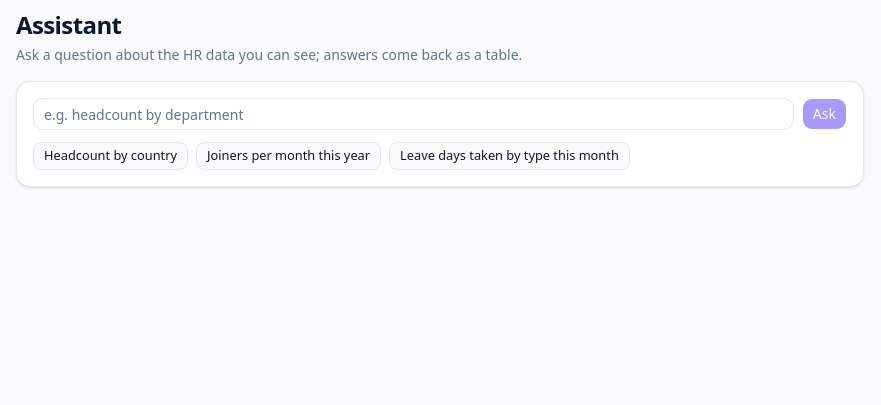
Test case: AssistantPage › does not show the model explanation
Type "headcount by country" into the field named "Question".
click(413, 114); type("headcount by country")  # box [33,98,794,130]
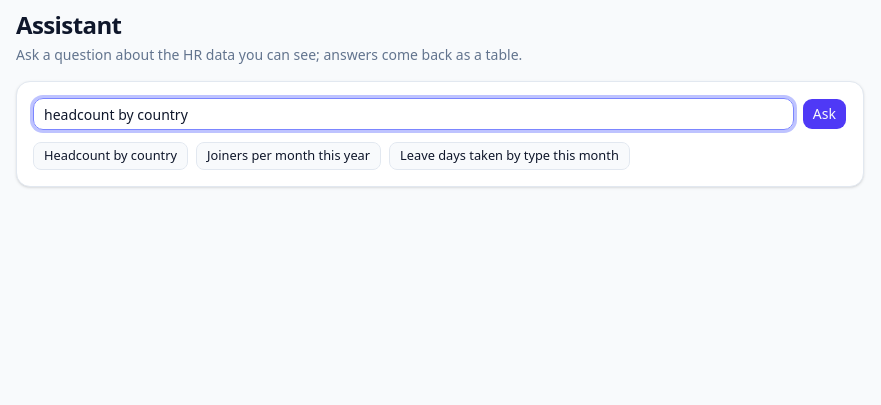
Click the button "Ask".
click(824, 114)  # box [802,98,847,130]
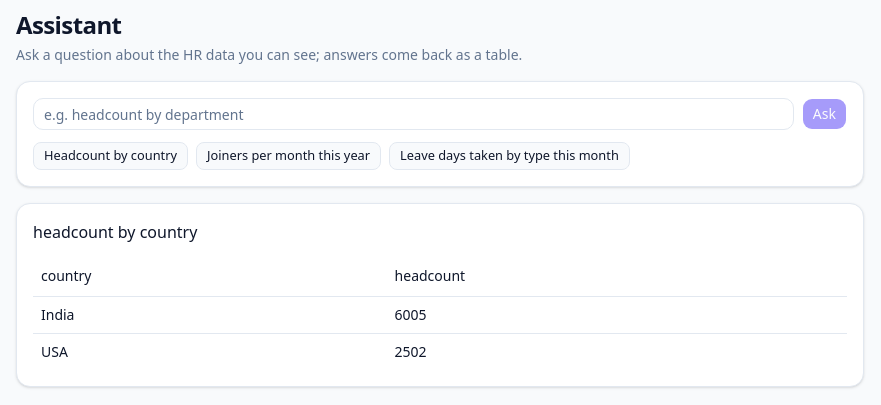
Expected: the row "India 6005" is shown, [33,296,847,333]
